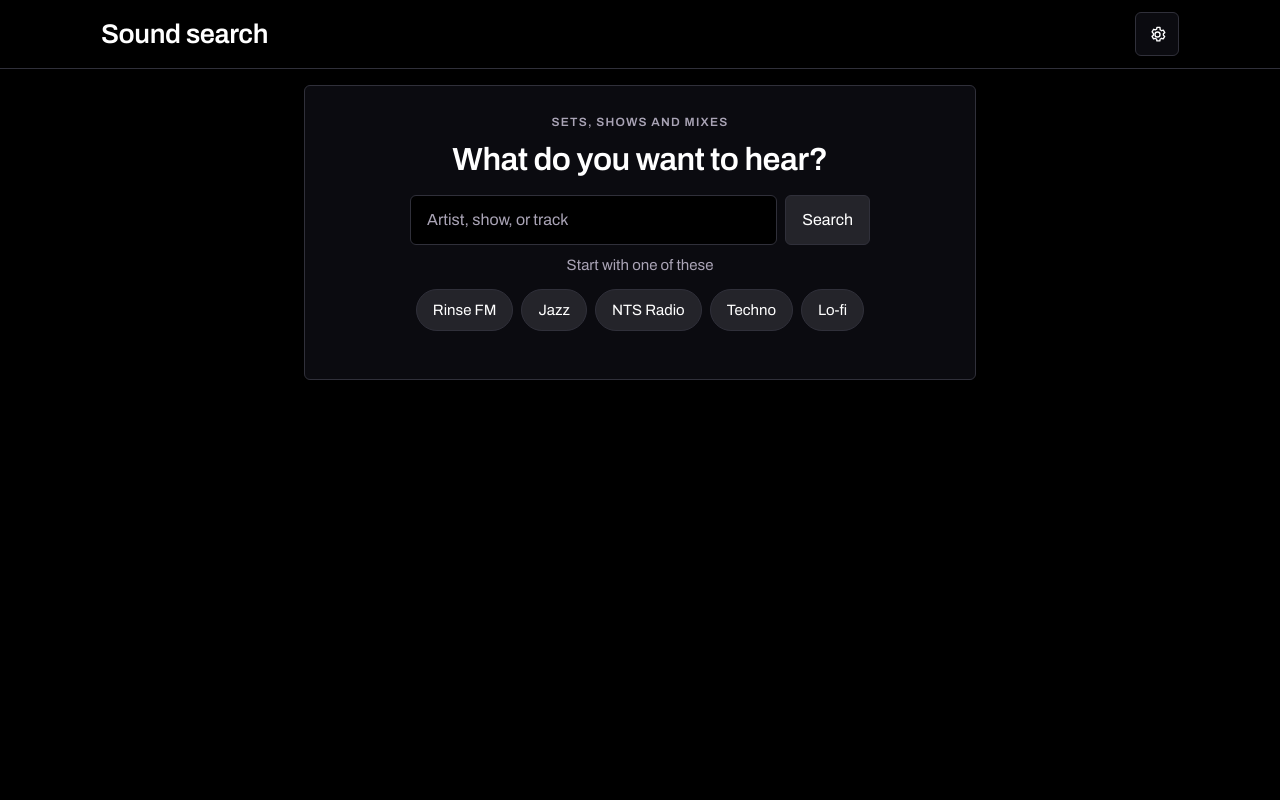
Test: App › empties the field when a track is picked, and keeps the results it came from
In the search field named "search tracks": (594, 220) [410,195,777,245], type "adele"
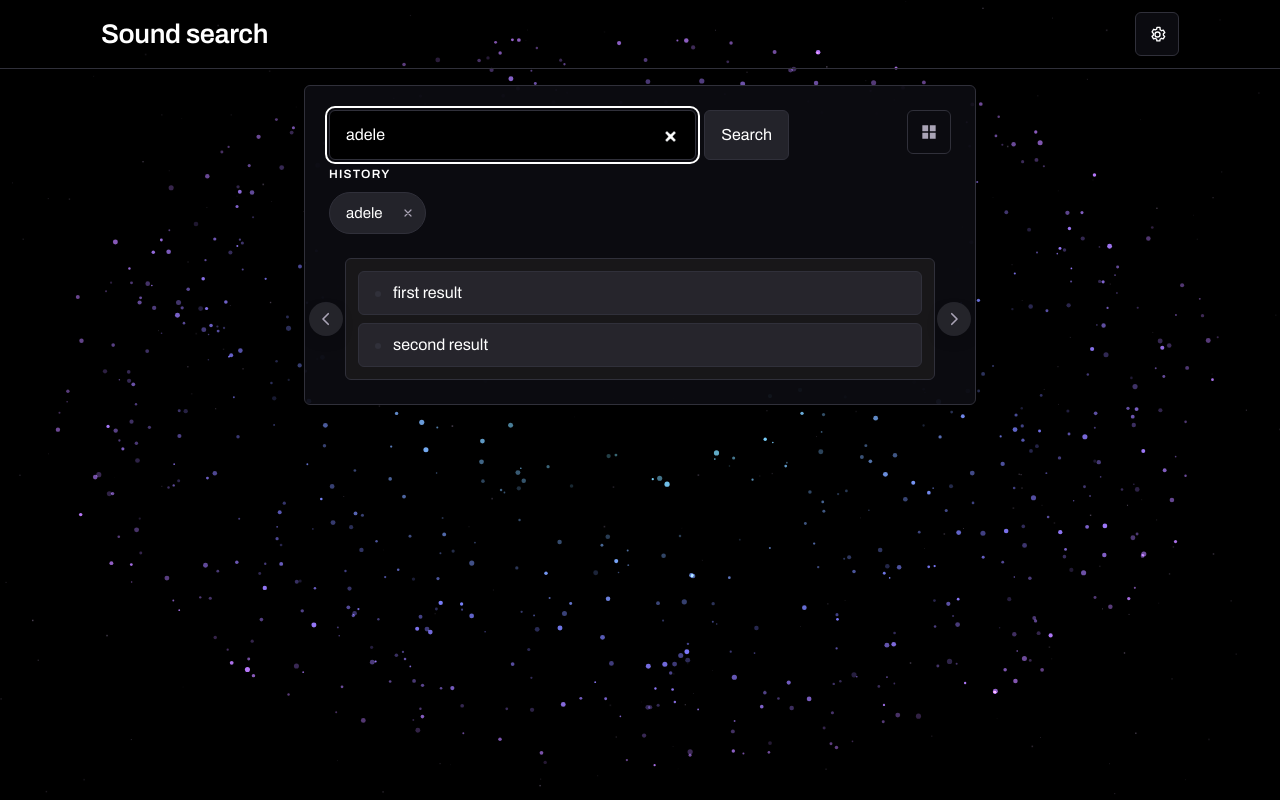
Click the button "first result": (428, 292) [358,271,922,315]
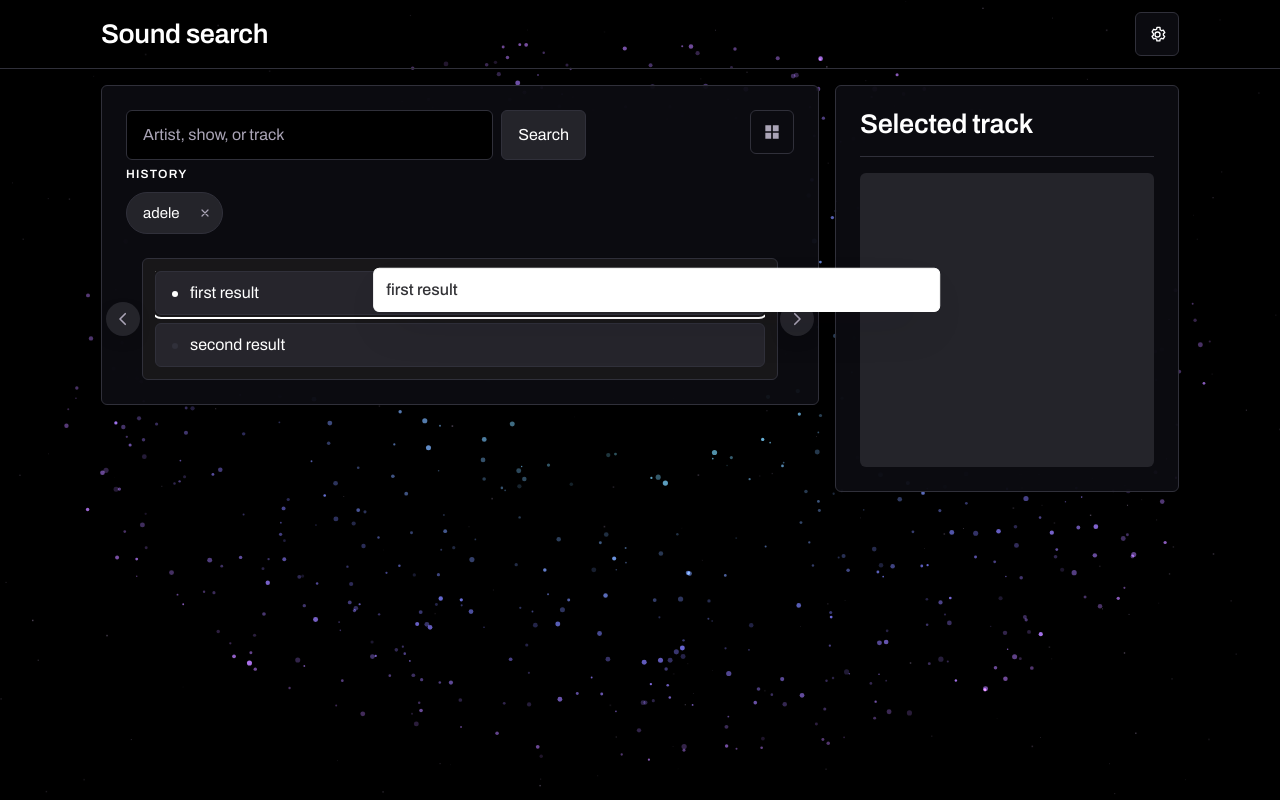
Result: the button "second result" is shown at [155,323,765,367]
Result: the search field named "search tracks" is empty at [126,110,493,160]
